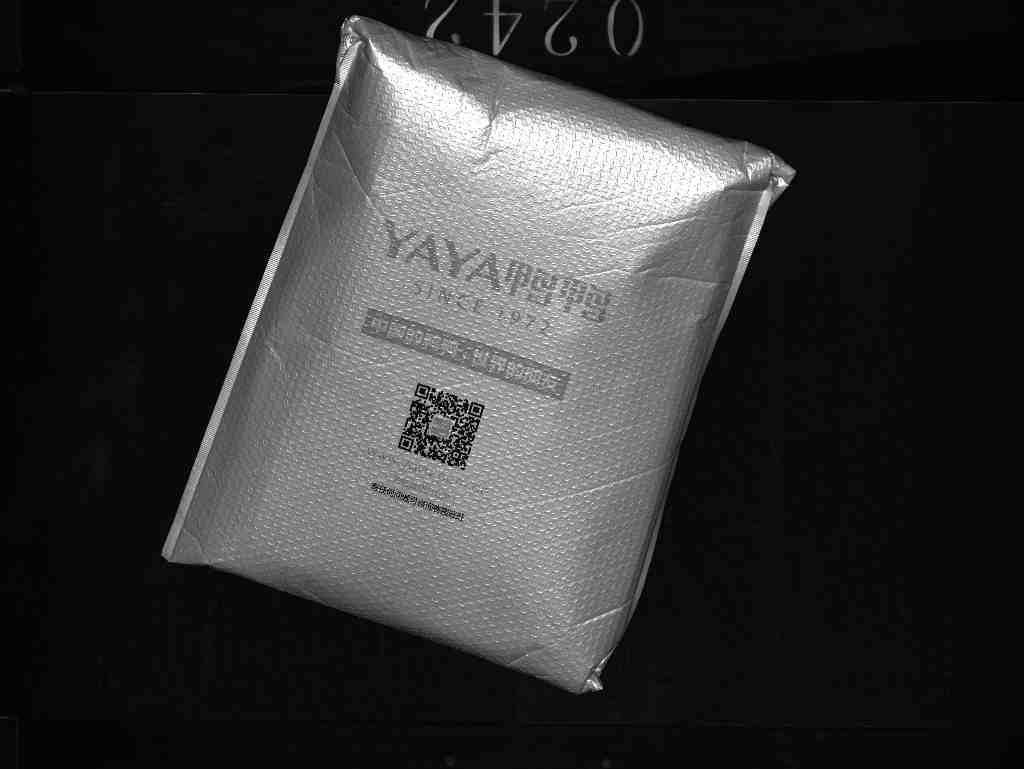box: (183, 19, 796, 694)
